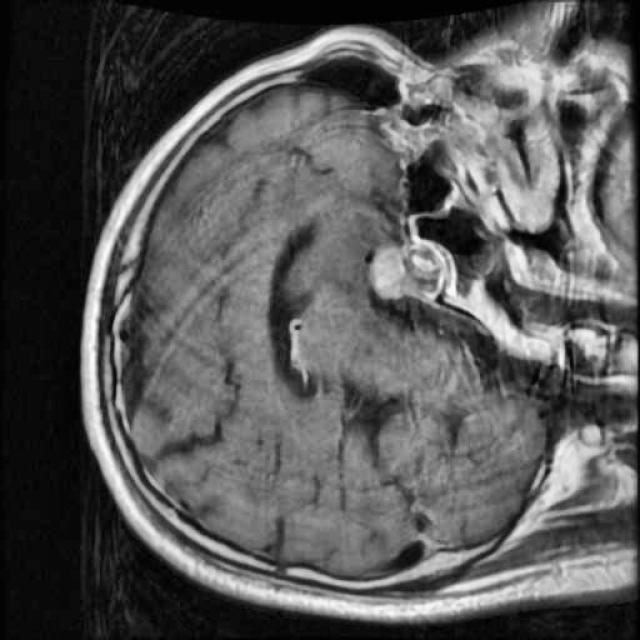Tumor: (362, 231, 454, 311)
